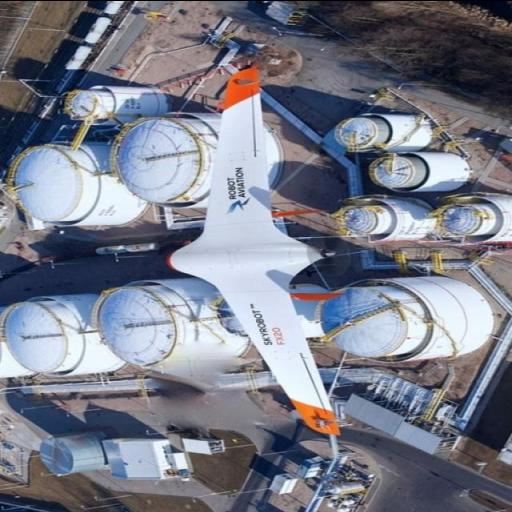uav: (168, 61, 344, 438)
